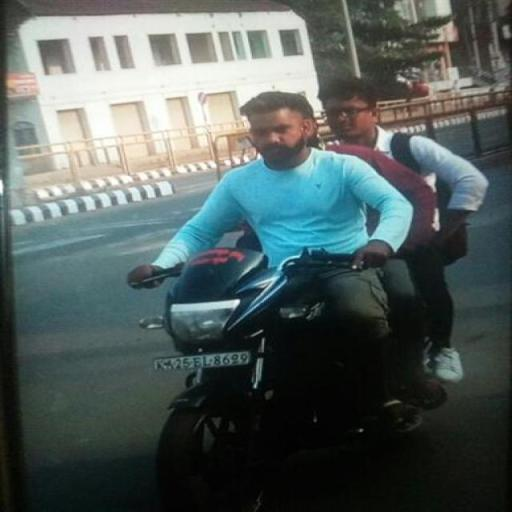tripple riding: (168, 74, 497, 252)
